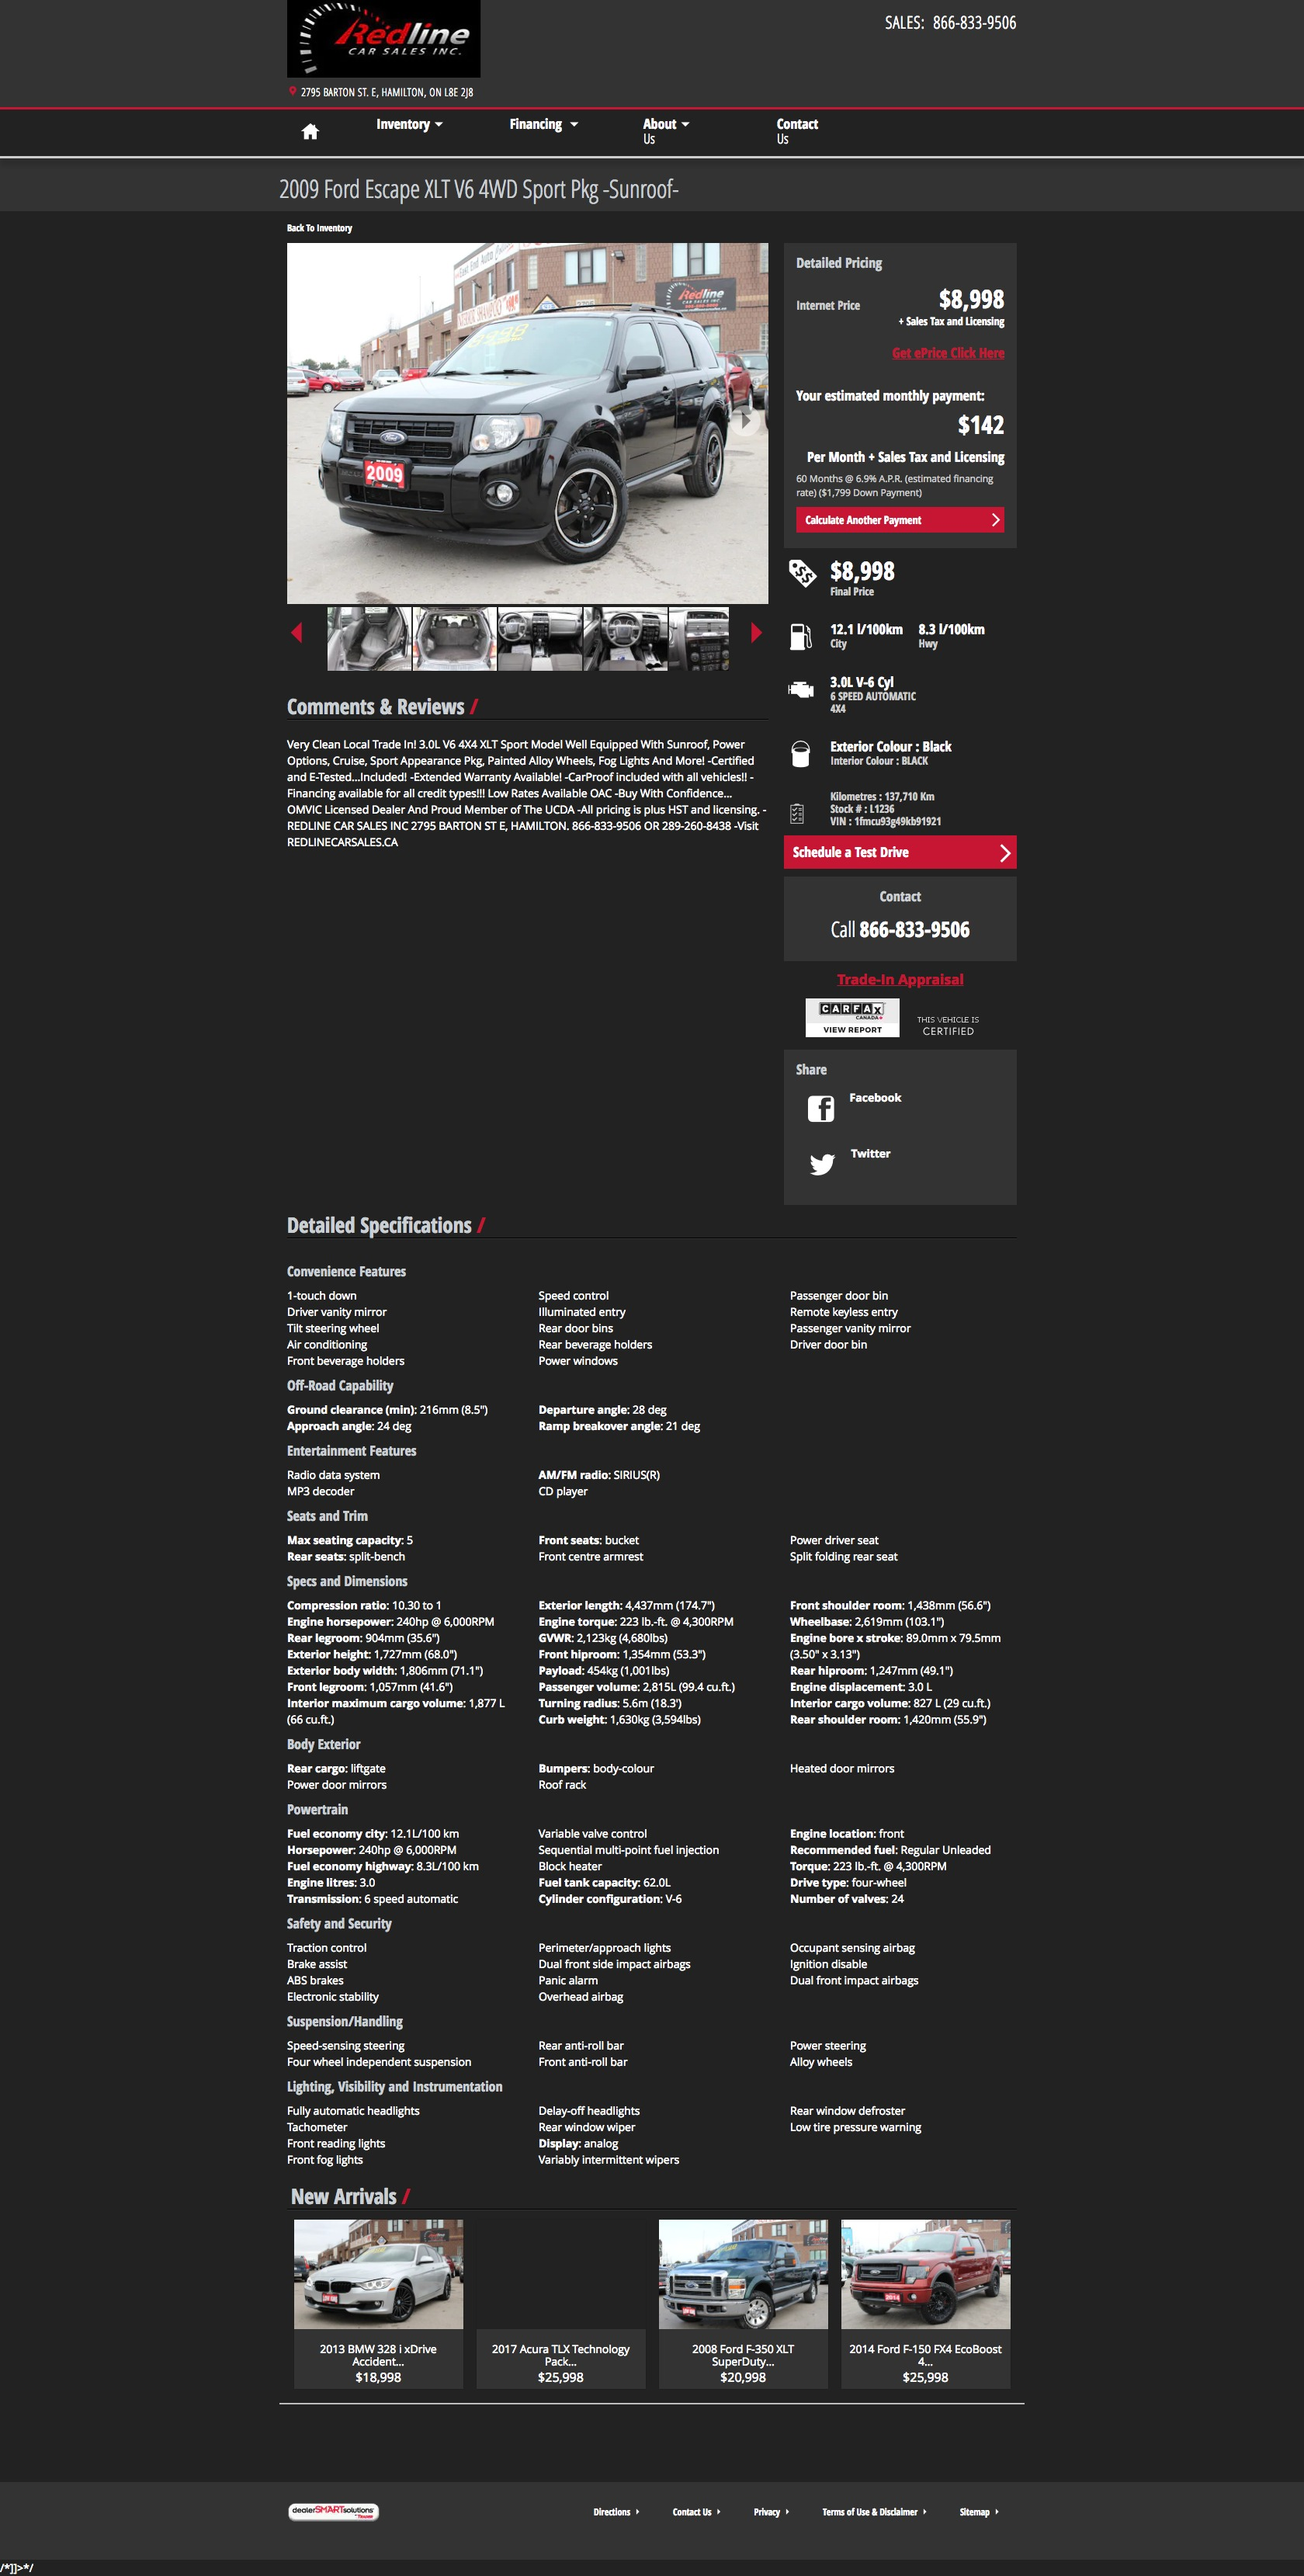car: (748, 620, 763, 645)
